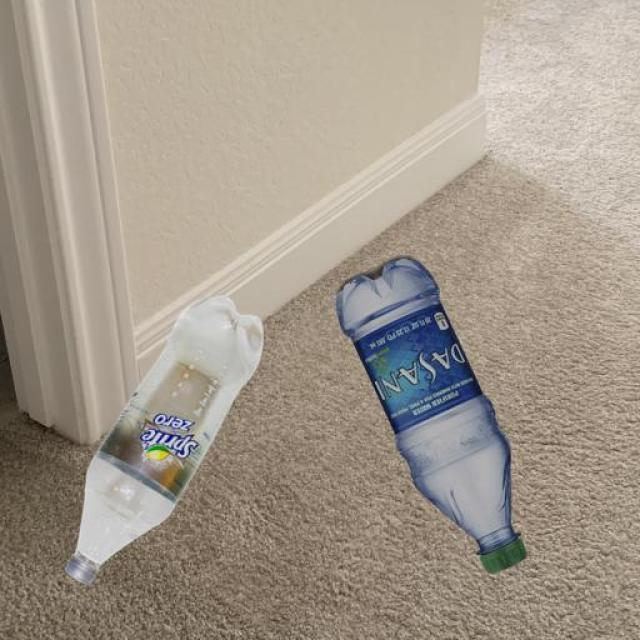bottle: (333, 254, 528, 574), (62, 293, 266, 586)
